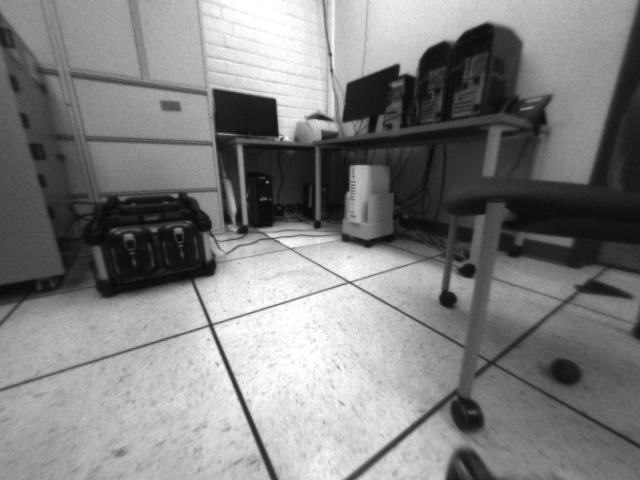dogtoy: (540, 346, 587, 391)
